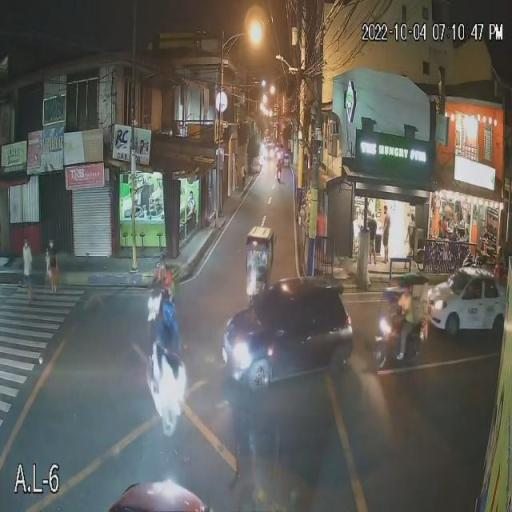helmet: (160, 297, 182, 327)
motorcycle: (143, 343, 196, 440)
rider: (153, 316, 186, 365)
